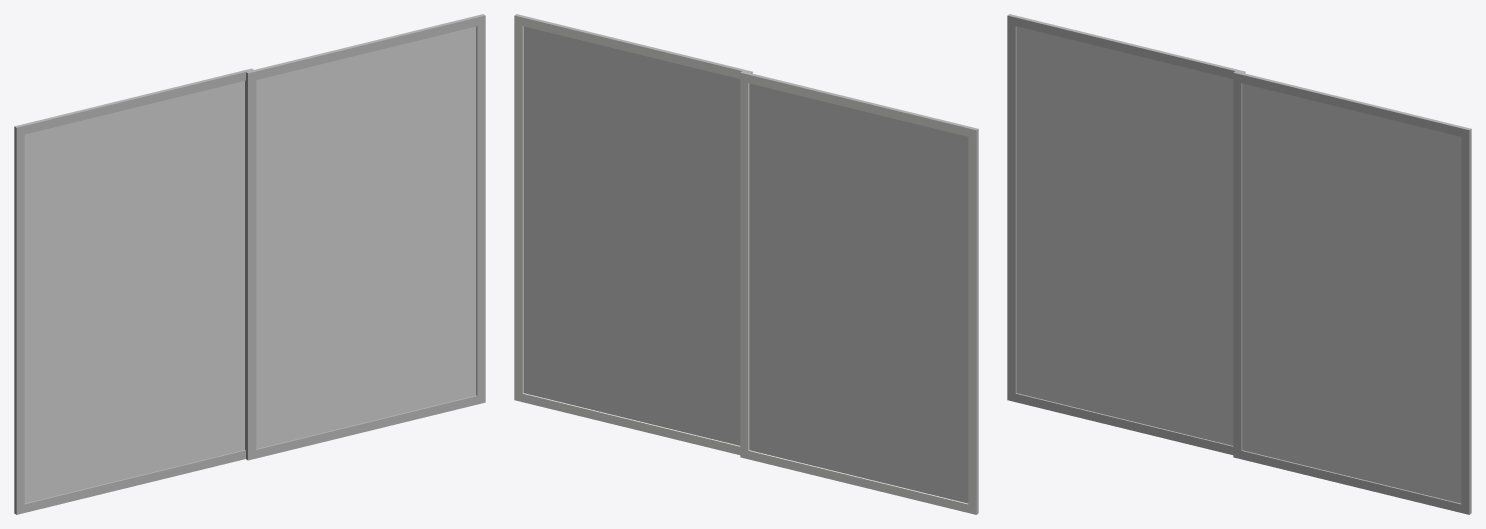
Rendered from SM_SlidingWindow_7.fbx.
3 views of the same model, side by side, from view 1: azimuth 30°, elevation 25°; view 2: azimuth 150°, elevation 25°; view 3: azimuth 330°, elevation 25° (orthographic).
Parts seen in each view (by area): view 1: SM_SlindingWindow_7, SM_SlindingWindow_7.001; view 2: SM_SlindingWindow_7.001, SM_SlindingWindow_7; view 3: SM_SlindingWindow_7, SM_SlindingWindow_7.001.
Boxes of the visible parts, x1,y1,x2,y2 form: SM_SlindingWindow_7: (246, 14, 485, 460); SM_SlindingWindow_7.001: (14, 68, 253, 514); SM_SlindingWindow_7.001: (740, 71, 978, 514); SM_SlindingWindow_7: (514, 14, 752, 454); SM_SlindingWindow_7: (1233, 71, 1471, 514); SM_SlindingWindow_7.001: (1007, 14, 1245, 454).
Size of the model in its own units: 2.55 by 2.02 by 0.04.
3 materials, 2 textured.
